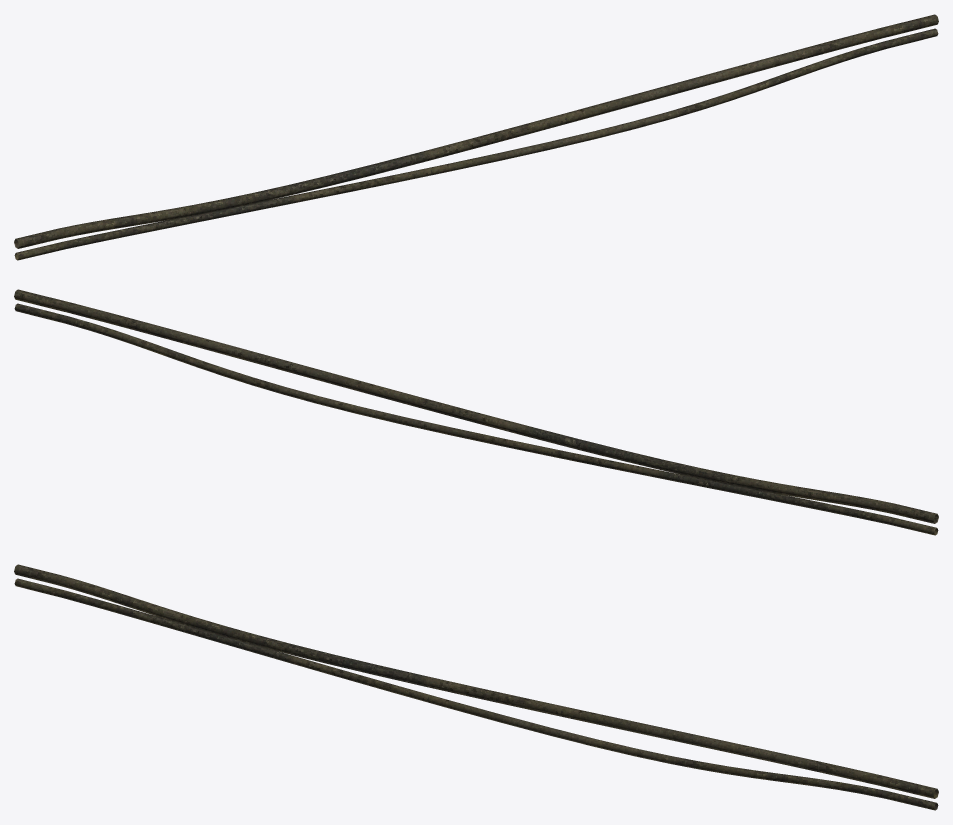
File: wires_hr_3_2.glb
The picture shows the model from 3 angles, top to bottom: view 1: azimuth 30°, elevation 25°; view 2: azimuth 150°, elevation 25°; view 3: azimuth 330°, elevation 25°; orthographic projection.
Parts seen in each view (by area): view 1: wires_hr_3_2; view 2: wires_hr_3_2; view 3: wires_hr_3_2.
Boxes of the visible parts, x1,y1,x2,y2 form: wires_hr_3_2: (14,14,938,260); wires_hr_3_2: (14,289,938,535); wires_hr_3_2: (14,564,938,810).
Size of the model in its own units: 4 by 0.1646 by 0.04.
Materials: 1 (1 with a texture image).
